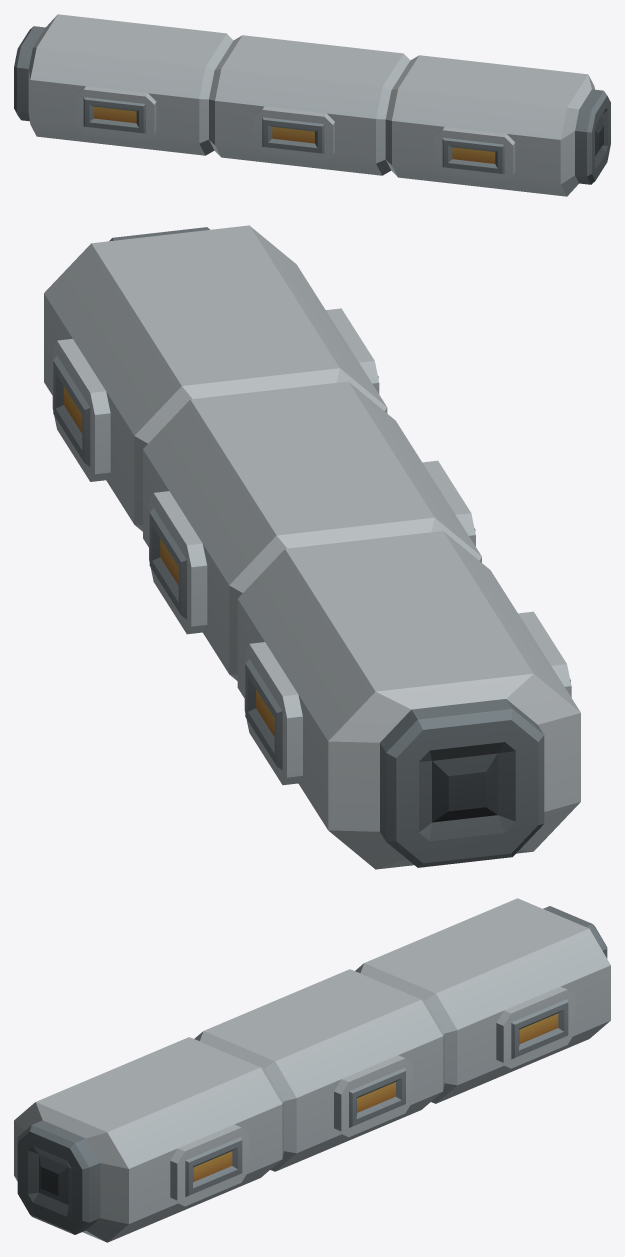
Rendered from space-tunnel-diagonal-long-a.glb.
The picture shows the model from 3 angles, top to bottom: view 1: azimuth 30°, elevation 25°; view 2: azimuth 150°, elevation 25°; view 3: azimuth 270°, elevation 25°; orthographic projection. The views are drawn at different scales.
Visible parts, largest first — view 1: tunnel_diagonal_long_A; view 2: tunnel_diagonal_long_A; view 3: tunnel_diagonal_long_A.
Boxes of the visible parts, <box> form: tunnel_diagonal_long_A: <box>14,14,610,196</box>; tunnel_diagonal_long_A: <box>44,225,580,869</box>; tunnel_diagonal_long_A: <box>14,898,610,1242</box>.
Bounding box in the file's own units: 2.94 × 0.6 × 2.94.
